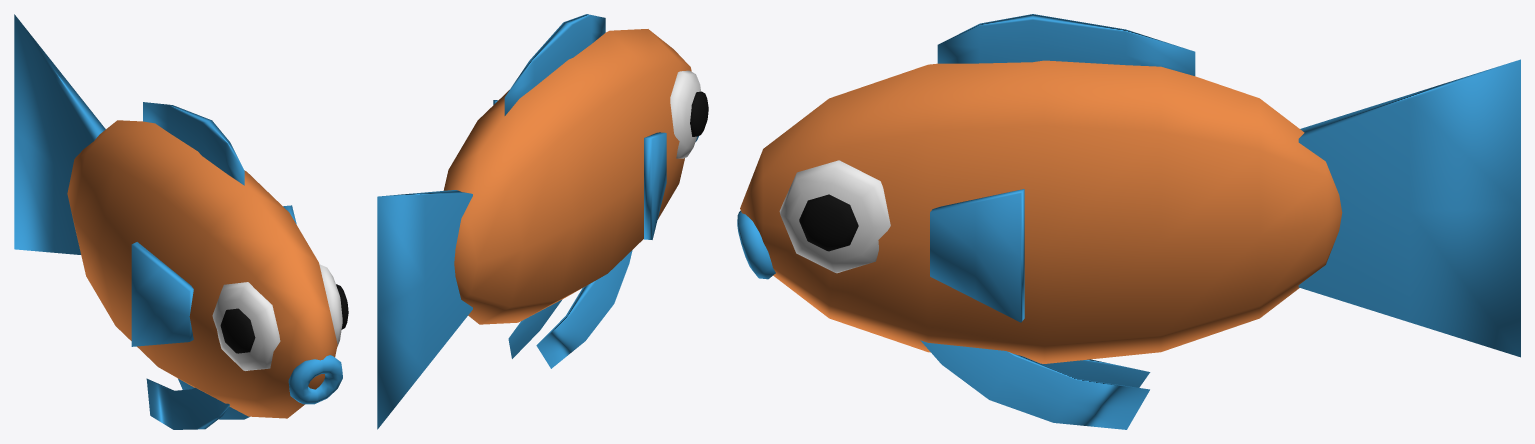
The model's file is Fish1.fbx.
3 views of the same model, side by side, from view 1: azimuth 30°, elevation 25°; view 2: azimuth 150°, elevation 25°; view 3: azimuth 270°, elevation 25° (orthographic). The views are drawn at different scales.
Visible parts, largest first — view 1: Body.001, TailFin.001, SideFins.001, Eyes.001, DorsalFin.002, VentralFin.R, Mouth.001, Pupils.001, VentralFin.L; view 2: Body.001, TailFin.001, VentralFin.R, DorsalFin.002, SideFins.001, Eyes.001, VentralFin.L, Pupils.001; view 3: Body.001, TailFin.001, SideFins.001, DorsalFin.002, VentralFin.L, Eyes.001, Pupils.001, VentralFin.R, Mouth.001.
Boxes of the visible parts, bbox=[...] form: Body.001: bbox=[67, 120, 337, 418]; TailFin.001: bbox=[14, 14, 105, 254]; SideFins.001: bbox=[131, 205, 296, 346]; Eyes.001: bbox=[212, 264, 342, 370]; DorsalFin.002: bbox=[143, 102, 244, 185]; VentralFin.R: bbox=[146, 378, 229, 429]; Mouth.001: bbox=[288, 355, 342, 404]; Pupils.001: bbox=[220, 284, 348, 353]; VentralFin.L: bbox=[178, 378, 249, 419]; Body.001: bbox=[443, 29, 691, 324]; TailFin.001: bbox=[377, 190, 472, 429]; VentralFin.R: bbox=[536, 250, 632, 368]; DorsalFin.002: bbox=[504, 14, 605, 115]; SideFins.001: bbox=[493, 100, 666, 239]; Eyes.001: bbox=[670, 70, 701, 158]; VentralFin.L: bbox=[508, 299, 562, 358]; Pupils.001: bbox=[690, 91, 708, 136]; Body.001: bbox=[740, 60, 1342, 363]; TailFin.001: bbox=[1298, 59, 1520, 357]; SideFins.001: bbox=[930, 189, 1024, 322]; DorsalFin.002: bbox=[937, 14, 1195, 75]; VentralFin.L: bbox=[920, 340, 1149, 429]; Eyes.001: bbox=[779, 160, 890, 273]; Pupils.001: bbox=[799, 194, 858, 251]; VentralFin.R: bbox=[1041, 359, 1150, 387]; Mouth.001: bbox=[737, 210, 775, 279].
Bounding box in the file's own units: 116 × 218 × 386.
